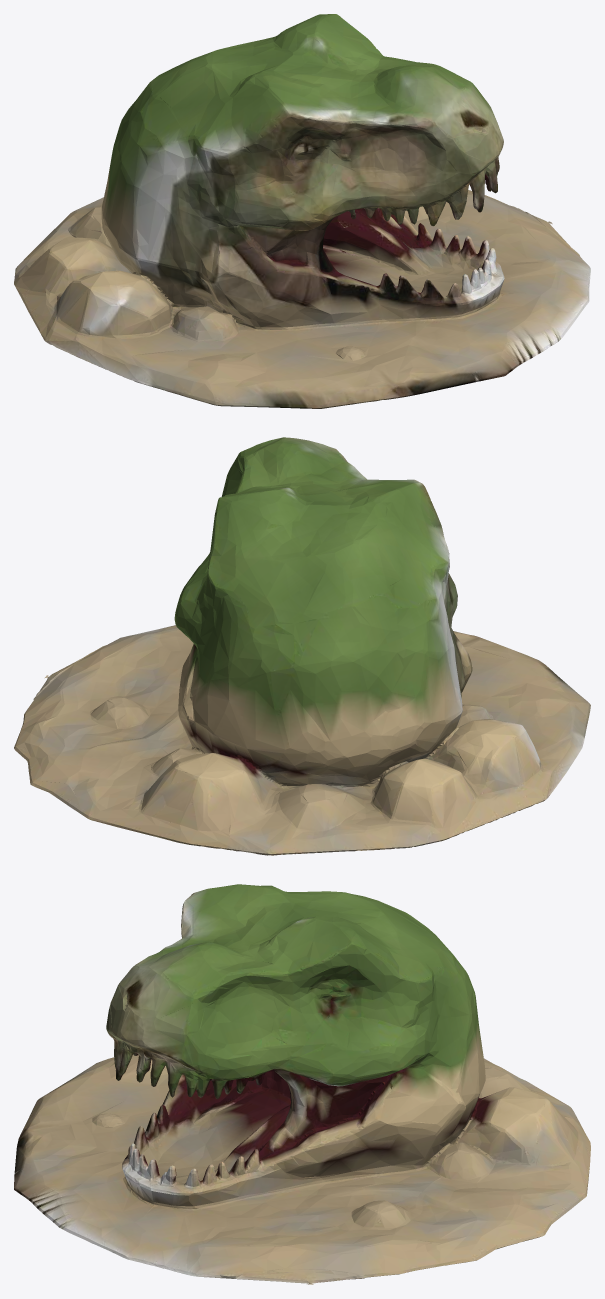
File: tete-trex.glb
3 renders of one model, top to bottom at view 1: azimuth 30°, elevation 25°; view 2: azimuth 150°, elevation 25°; view 3: azimuth 270°, elevation 25°, orthographic.
Parts seen in each view (by area): view 1: tmp3weg1jv4.ply; view 2: tmp3weg1jv4.ply; view 3: tmp3weg1jv4.ply.
Part boxes in pixels (bbox=[...]): tmp3weg1jv4.ply: bbox=[14, 14, 590, 408]; tmp3weg1jv4.ply: bbox=[14, 437, 590, 855]; tmp3weg1jv4.ply: bbox=[14, 884, 590, 1284].
Size of the model in its own units: 1.97 by 0.9301 by 1.92.
1 material, 1 textured.
